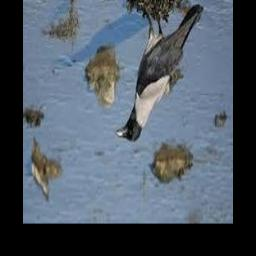Crow: (114, 3, 203, 143)
